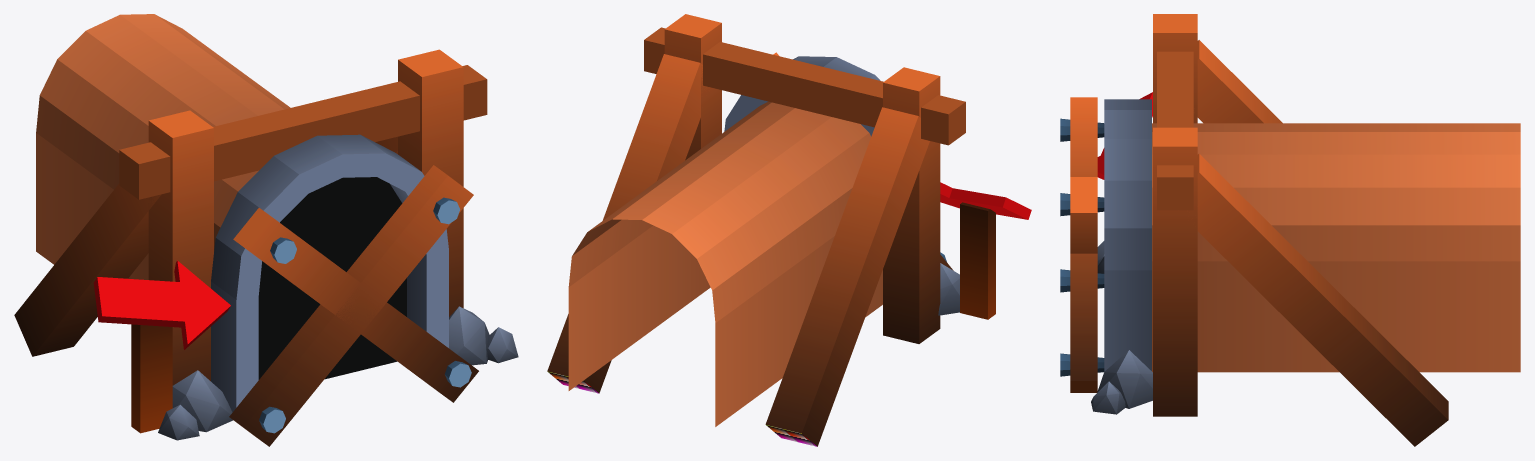
The model's file is Red_2R-ClosedEntry.fbx.
3 renders of one model, left to right at view 1: azimuth 30°, elevation 25°; view 2: azimuth 150°, elevation 25°; view 3: azimuth 270°, elevation 25°, orthographic. The views are drawn at different scales.
Parts seen in each view (by area): view 1: tunel.010, tunel.011; view 2: tunel.010, tunel.011; view 3: tunel.010.
Part boxes in pixels (left/top/right/bottom): tunel.010: left=14, top=14, right=518, bottom=446; tunel.011: left=93, top=260, right=230, bottom=349; tunel.010: left=547, top=14, right=995, bottom=446; tunel.011: left=940, top=182, right=1031, bottom=219; tunel.010: left=1060, top=14, right=1520, bottom=446.
Size of the model in its own units: 622 by 468 by 650.
